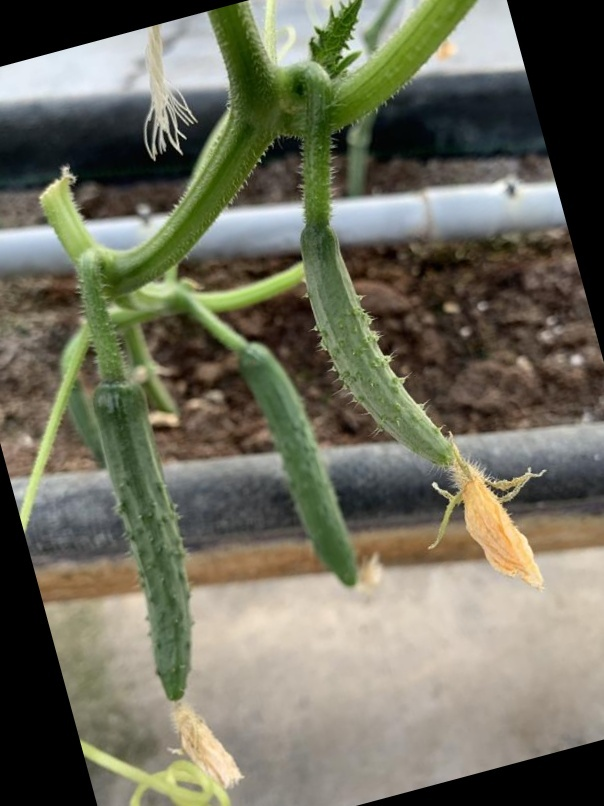bear: (299, 217, 535, 571)
growth: (86, 375, 205, 732), (234, 339, 361, 592)
